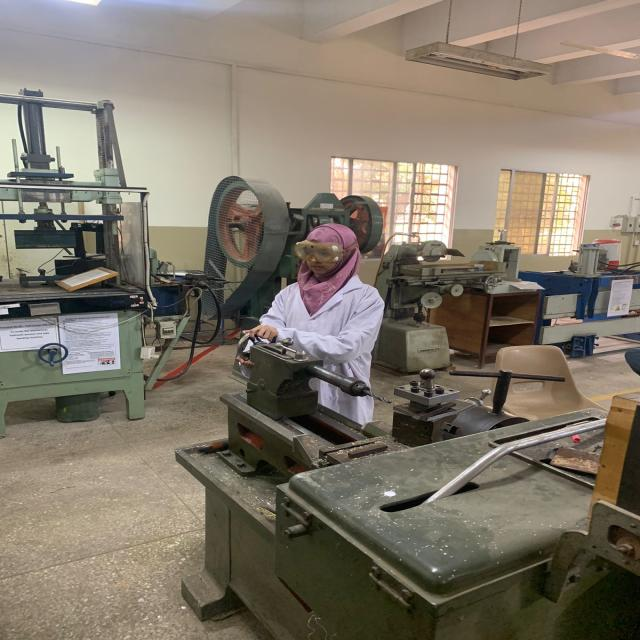googles: (294, 240, 341, 262)
labcoat: (254, 272, 386, 427)
